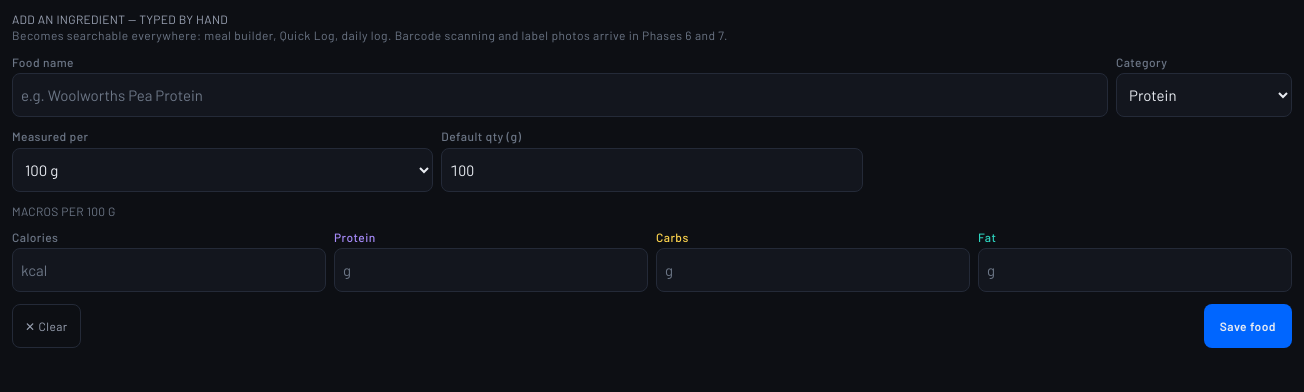
Test: AddCustomFood — the gram-unit guard (D7, write side) › refuses to save a per-unit food whose unit is g or ml
The width and height of the screenshot is (1304, 392).
Type "Bad Unit" into the field labelled "Food name".
click(560, 95); type("Bad Unit")  # box [12,73,1108,117]
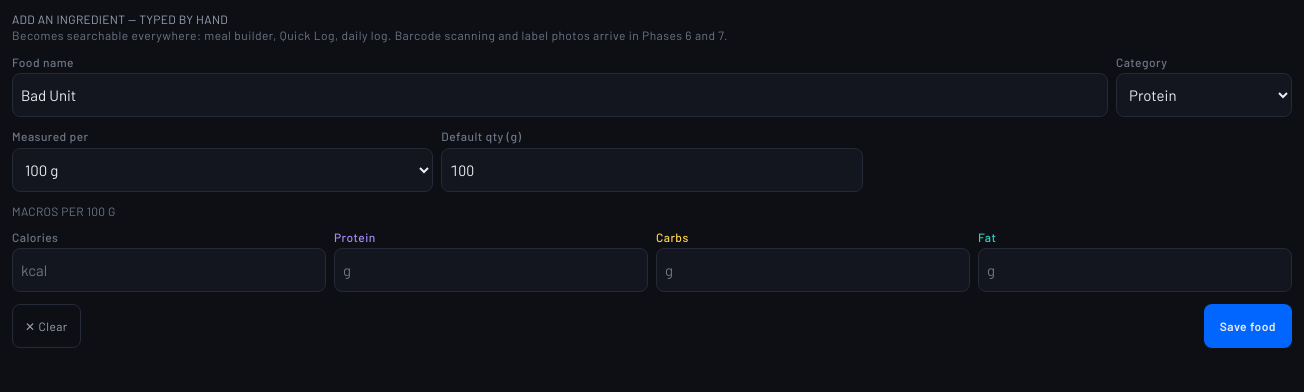
Select "Unit (slice, scoop…)" in the dropdown labelled "Measured per" at (223, 170), box [12,148,433,192]
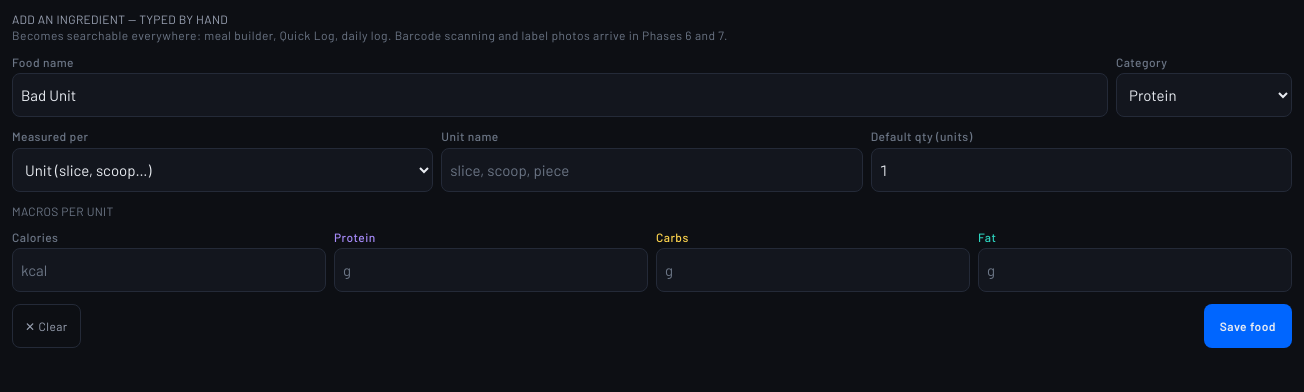
Type "g" into the field labelled "Unit name".
click(652, 170); type("g")  # box [441,148,863,192]
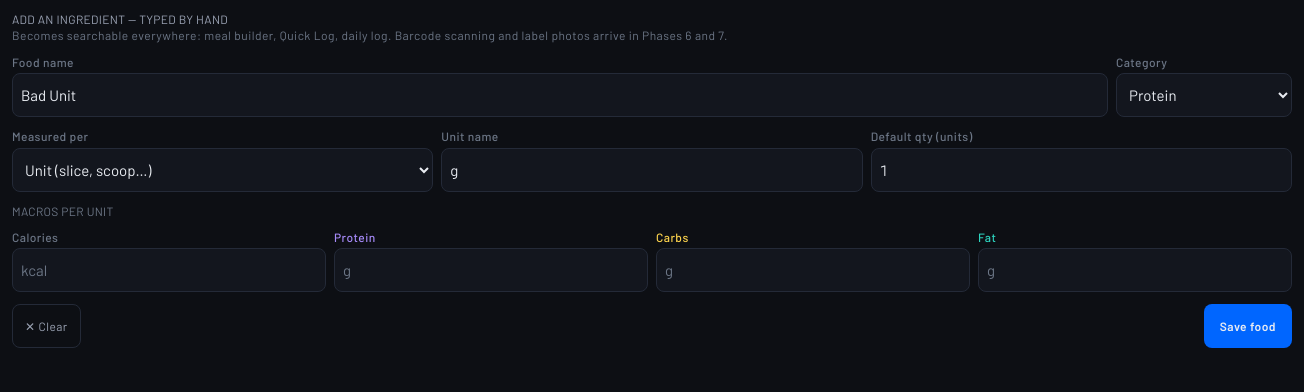
Type "100" into the field labelled "Calories".
click(169, 270); type("100")  # box [12,248,326,292]
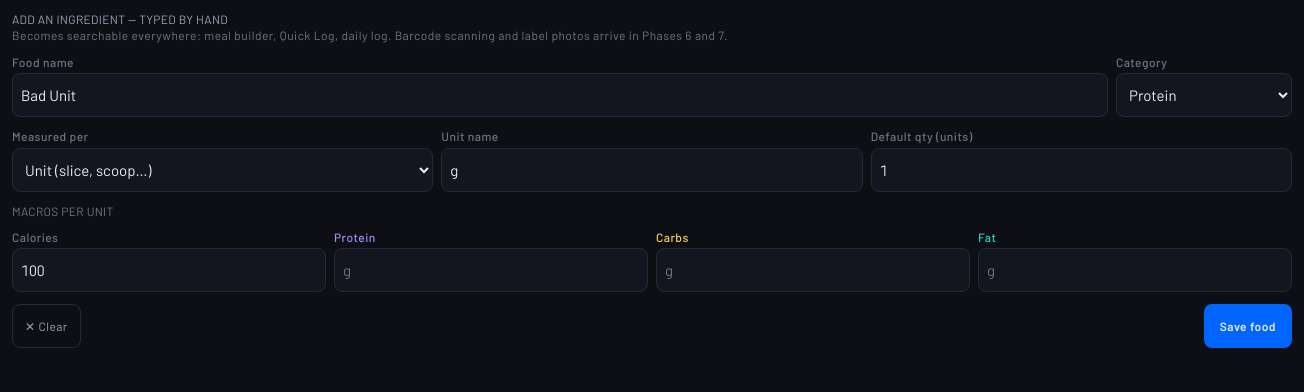
Click the button "Save food".
click(1248, 326)  # box [1204,304,1292,348]
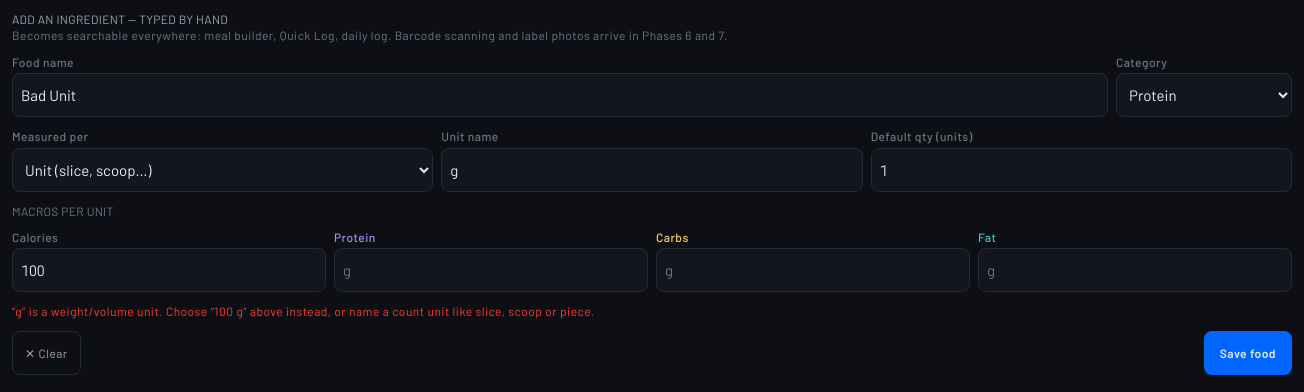
expect the text "weight/volume unit" is shown: met, box [12,304,595,318]
